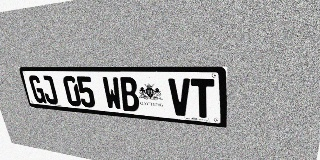0: (62, 76, 82, 107)
5: (76, 76, 96, 108)
B: (118, 77, 140, 112)
G: (28, 75, 47, 104)
J: (40, 75, 59, 105)
T: (191, 78, 214, 119)
V: (168, 78, 191, 117)
W: (101, 77, 123, 110)
